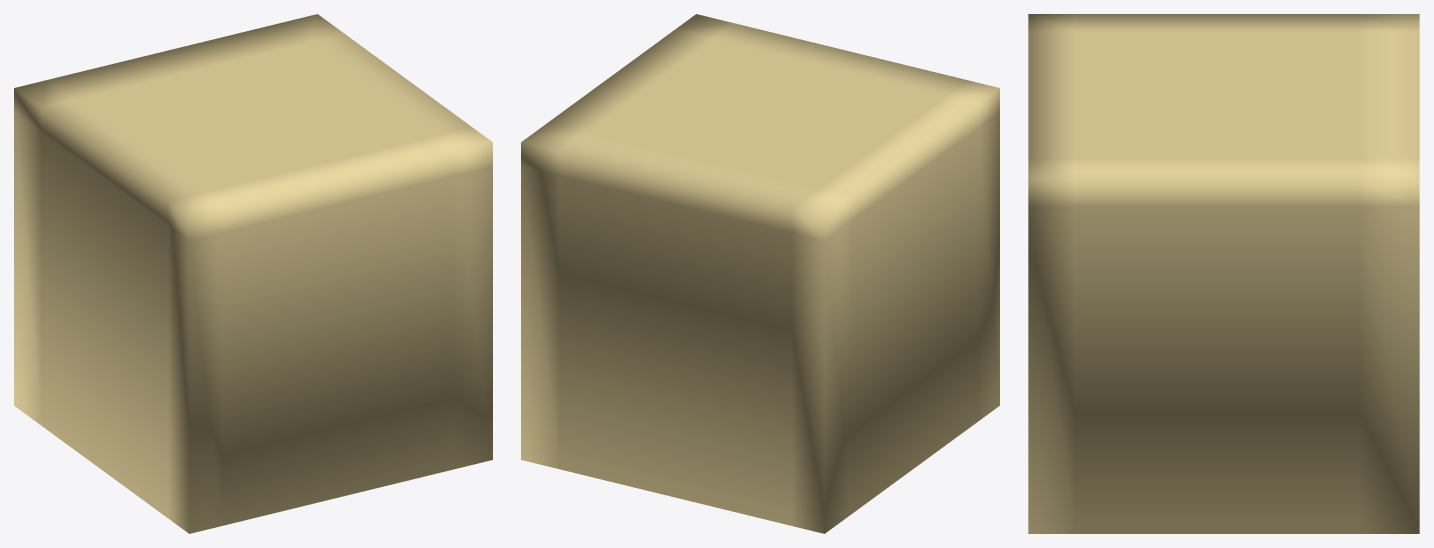
File: Singleblock.glb
3 views of the same model, side by side, from view 1: azimuth 30°, elevation 25°; view 2: azimuth 150°, elevation 25°; view 3: azimuth 270°, elevation 25° (orthographic). The views are drawn at different scales.
Visible parts, largest first — view 1: Cube; view 2: Cube; view 3: Cube.
Part boxes in pixels (box(x1,y1,x2,y2)): Cube: box(14, 14, 492, 533); Cube: box(521, 14, 999, 533); Cube: box(1028, 14, 1419, 533).
Size of the model in its own units: 2.76 by 2.76 by 2.76.
